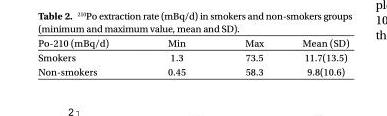table: (37, 36, 348, 77)
table column: (37, 36, 137, 77), (137, 36, 214, 77), (214, 36, 282, 77), (282, 36, 348, 77)
table column header: (37, 36, 348, 49)
table row: (37, 49, 348, 64), (37, 36, 348, 49), (37, 64, 348, 77)
